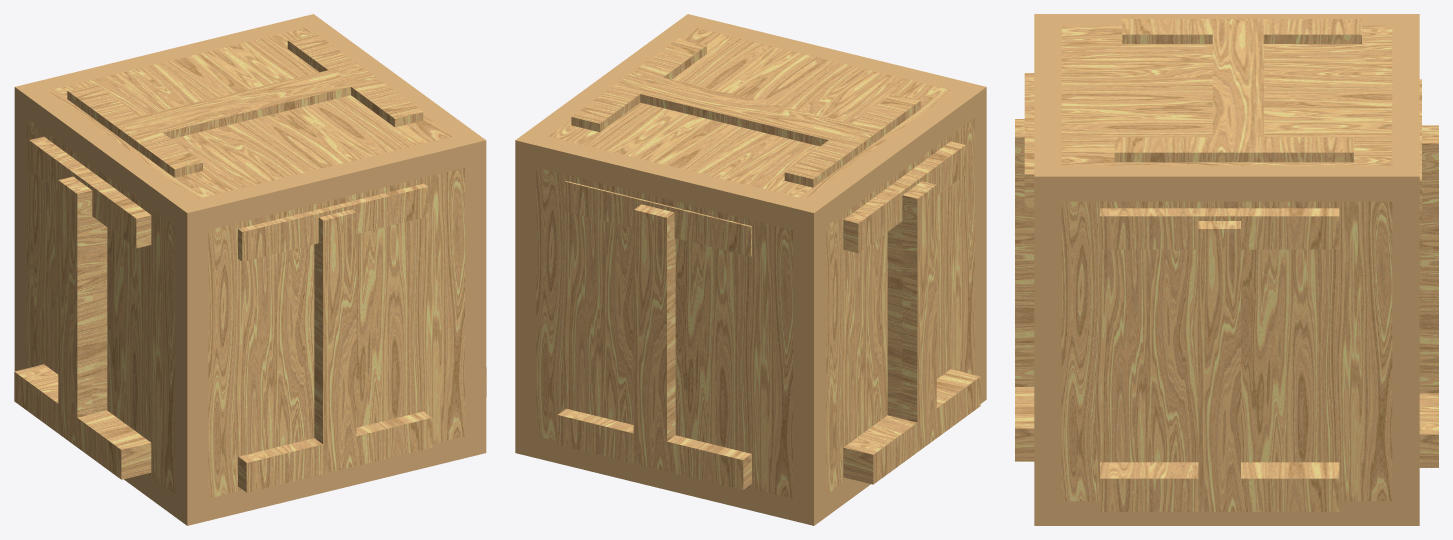
The model's file is Block I.fbx.
The picture shows the model from 3 angles, left to right: view 1: azimuth 30°, elevation 25°; view 2: azimuth 150°, elevation 25°; view 3: azimuth 270°, elevation 25°; orthographic projection. The views are drawn at different scales.
Visible parts, largest first — view 1: Box, FRONT1, LEFT1, TOP, TOP1, LEFT, FRONT; view 2: Box, BACK1, LEFT1, TOP, LEFT, TOP1, BACK; view 3: Box, RIGHT1, TOP, RIGHT, BACK1, FRONT1, TOP1, FRONT, BACK.
Boxes of the visible parts, x1,y1,x2,y2 form: Box: [14, 14, 486, 525]; FRONT1: [238, 209, 432, 492]; LEFT1: [14, 176, 151, 479]; TOP: [118, 33, 423, 138]; TOP1: [67, 64, 371, 177]; LEFT: [29, 136, 151, 413]; FRONT: [238, 183, 428, 312]; Box: [515, 14, 986, 525]; BACK1: [557, 204, 751, 489]; LEFT1: [843, 181, 980, 484]; TOP: [571, 38, 875, 143]; LEFT: [843, 141, 965, 418]; TOP1: [622, 74, 920, 187]; BACK: [565, 181, 751, 293]; Box: [1034, 14, 1419, 525]; RIGHT1: [1100, 221, 1339, 511]; TOP: [1114, 20, 1353, 162]; RIGHT: [1100, 208, 1339, 249]; BACK1: [1419, 125, 1438, 467]; FRONT1: [1015, 119, 1034, 461]; TOP1: [1122, 19, 1361, 149]; FRONT: [1024, 73, 1034, 385]; BACK: [1419, 79, 1421, 390].
Bounding box in the file's own units: 1.2 × 1.06 × 1.1.
Materials: 2 (2 with a texture image).
